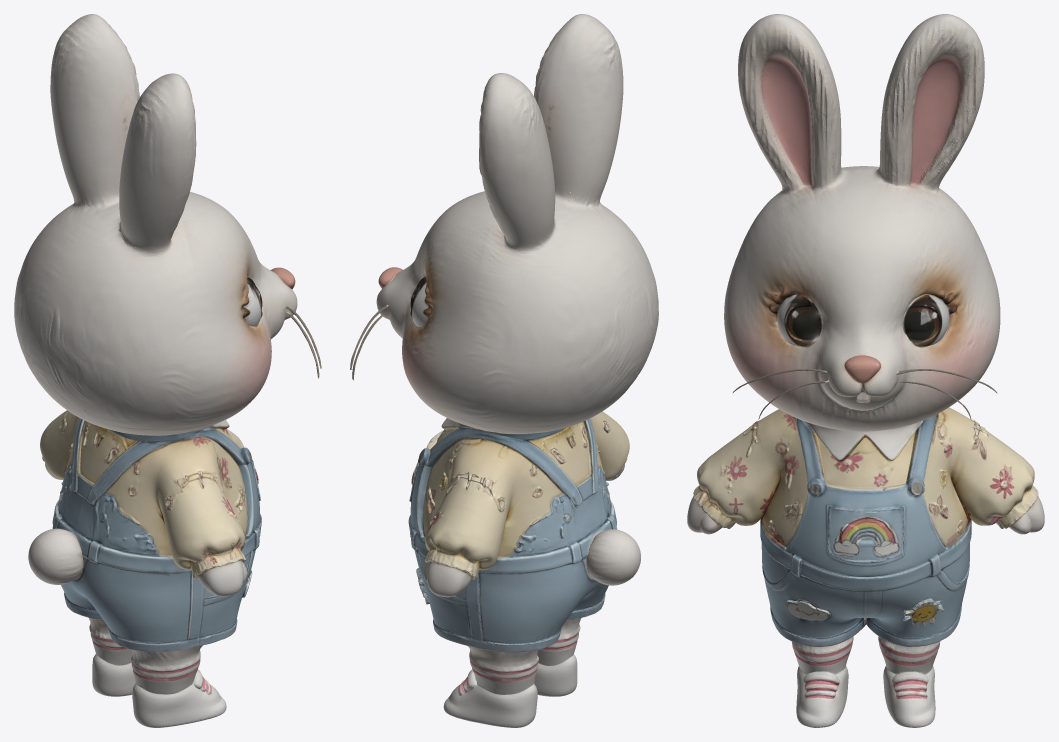
The model's file is bunny.glb.
3 renders of one model, left to right at view 1: azimuth 30°, elevation 25°; view 2: azimuth 150°, elevation 25°; view 3: azimuth 270°, elevation 25°, orthographic. The views are drawn at different scales.
Visible parts, largest first — view 1: tripo_node_e5fbbafb-d90c-4939-b58b-f20c9924faaf; view 2: tripo_node_e5fbbafb-d90c-4939-b58b-f20c9924faaf; view 3: tripo_node_e5fbbafb-d90c-4939-b58b-f20c9924faaf.
Boxes of the visible parts, <box> form: tripo_node_e5fbbafb-d90c-4939-b58b-f20c9924faaf: <box>14,14,321,727</box>; tripo_node_e5fbbafb-d90c-4939-b58b-f20c9924faaf: <box>350,14,658,727</box>; tripo_node_e5fbbafb-d90c-4939-b58b-f20c9924faaf: <box>687,14,1044,727</box>.
Bounding box in the file's own units: 0.4059 × 0.9995 × 0.4738.
Materials: 1 (1 with a texture image).
